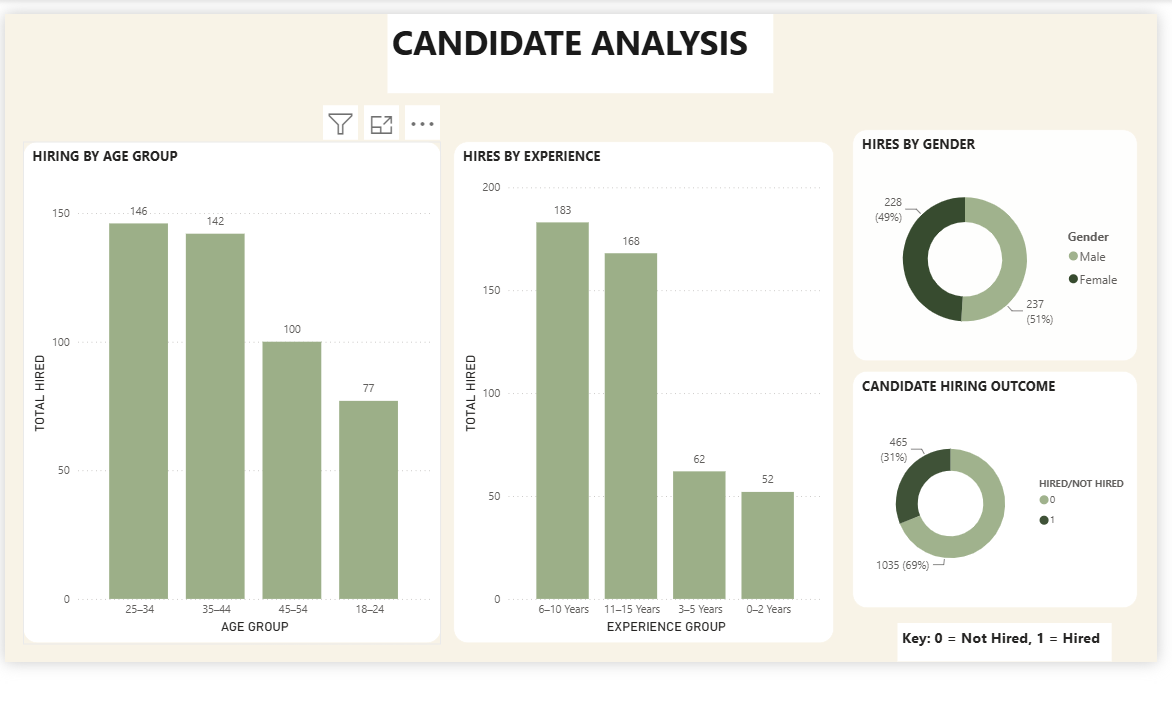

The dashboard page shown, as its layout file describes it:
{"tool":"powerbi","page":{"name":"Candidate Analysis","canvas":[1280,720],"ordinal":1},"visuals":[{"type":"textbox","box":[425.7,0,428.5,87.8],"z":0},{"type":"clusteredColumnChart","title":"HIRING BY AGE GROUP","fields":{"Category":["Recruitment Data.Age Group"],"Y":["Recruitment Data.TOTAL HIRED"]},"box":[19.7,142.3,464.9,557.2],"z":1000},{"type":"donutChart","title":"HIRES BY GENDER","fields":{"Category":["Recruitment Data.Gender"],"Y":["Recruitment Data.TOTAL HIRED"]},"box":[941.8,128.7,316.5,257.4],"z":2000},{"type":"clusteredColumnChart","title":"HIRES BY EXPERIENCE","fields":{"Category":["Recruitment Data.Experience Group"],"Y":["Recruitment Data.TOTAL HIRED"]},"box":[498.2,142.3,422.5,557.2],"z":3000},{"type":"donutChart","title":"CANDIDATE HIRING OUTCOME","fields":{"Category":["Recruitment Data.HiringDecision"],"Y":["Recruitment Data.TOTAL CANDIDATES"]},"box":[941.8,396.7,316.5,263.5],"z":4000},{"type":"textbox","box":[991.8,676.8,237.7,42.4],"z":4001}]}

Visuals, with their boxes on the page's 1280x720 design canvas (x1, y1, x2, y2). These are canvas units, not pixel positions in the 1172x708 screenshot, which may show the page scaled, cropped or inside an application window:
textbox: 426, 0, 854, 88
"HIRING BY AGE GROUP" clusteredColumnChart: 20, 142, 485, 700
"HIRES BY GENDER" donutChart: 942, 129, 1258, 386
"HIRES BY EXPERIENCE" clusteredColumnChart: 498, 142, 921, 700
"CANDIDATE HIRING OUTCOME" donutChart: 942, 397, 1258, 660
textbox: 992, 677, 1230, 719
